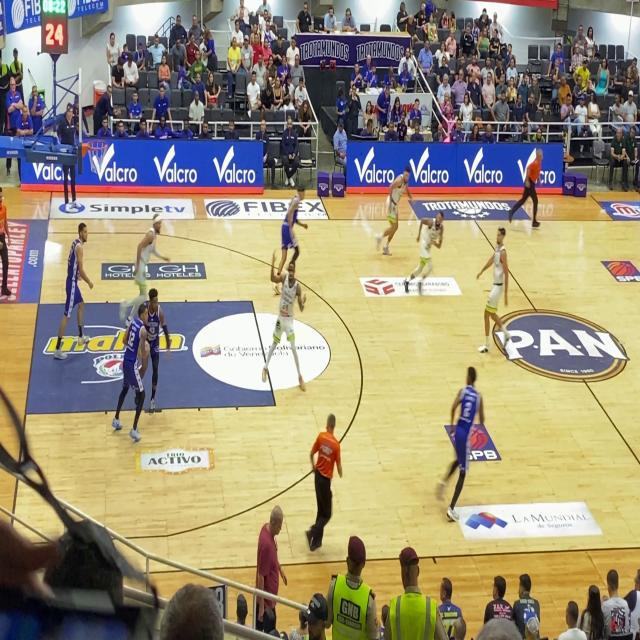referee: (295, 409, 346, 553), (513, 144, 549, 234)
team1: (472, 209, 520, 357), (270, 254, 312, 391), (407, 191, 447, 299), (379, 142, 410, 276), (131, 206, 167, 289)
team2: (422, 345, 496, 520), (47, 210, 94, 356), (110, 295, 149, 433), (142, 276, 170, 406), (274, 170, 308, 266)
ubasket: (84, 139, 110, 173)
